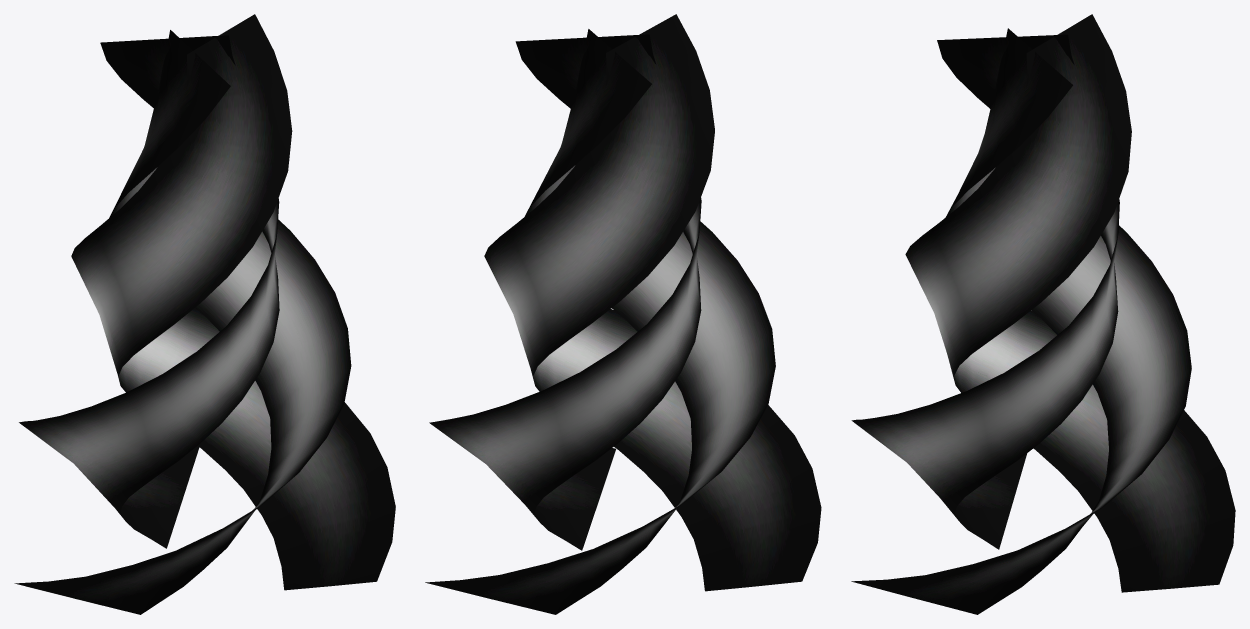
File: vfx_kurp_0340.dae
The picture shows the model from 3 angles, left to right: view 1: azimuth 30°, elevation 25°; view 2: azimuth 150°, elevation 25°; view 3: azimuth 270°, elevation 25°; orthographic projection.
Visible parts, largest first — view 1: vfx_kurp_0340; view 2: vfx_kurp_0340; view 3: vfx_kurp_0340.
Boxes of the visible parts, bbox=[...] form: vfx_kurp_0340: bbox=[14, 14, 395, 614]; vfx_kurp_0340: bbox=[425, 14, 821, 614]; vfx_kurp_0340: bbox=[851, 14, 1235, 614].
Bounding box in the file's own units: 5.52 × 5.23 × 8.19.
1 material, 1 textured.
